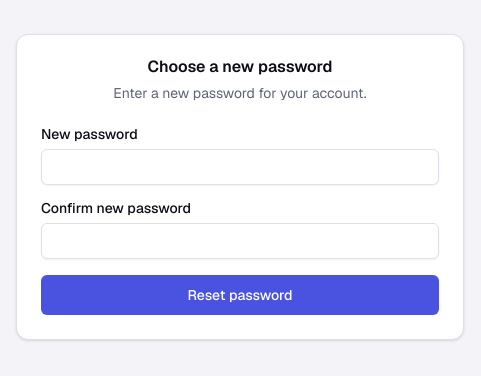
ResetPasswordPage › rejects a mismatched confirmation without calling the API
Type "new-password-1" into the password field labelled "New password" at (240, 167), box 41,149 -> 439,185
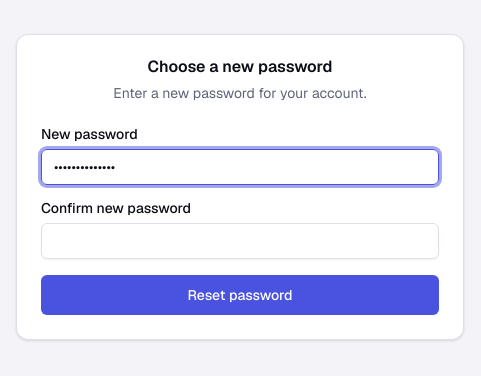
Type "different-1" into the password field labelled "Confirm new password" at (240, 241), box 41,223 -> 439,259
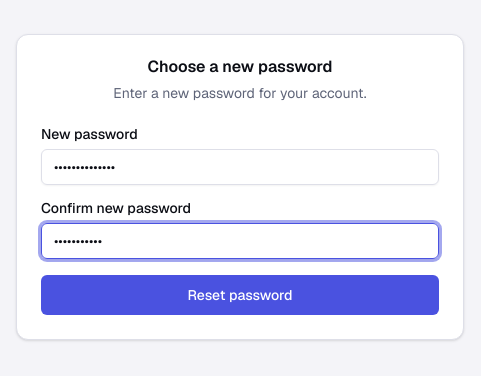
Click the button "Reset password" at (240, 295), box 41,275 -> 439,315
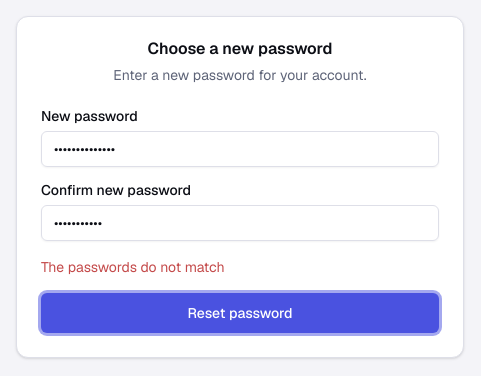
Expected: the text "The passwords do not match" is shown, 41,258 -> 225,276
